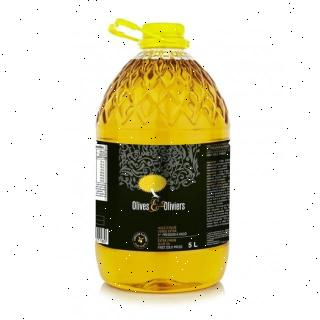Plastic-bottle: (88, 14, 236, 294)
